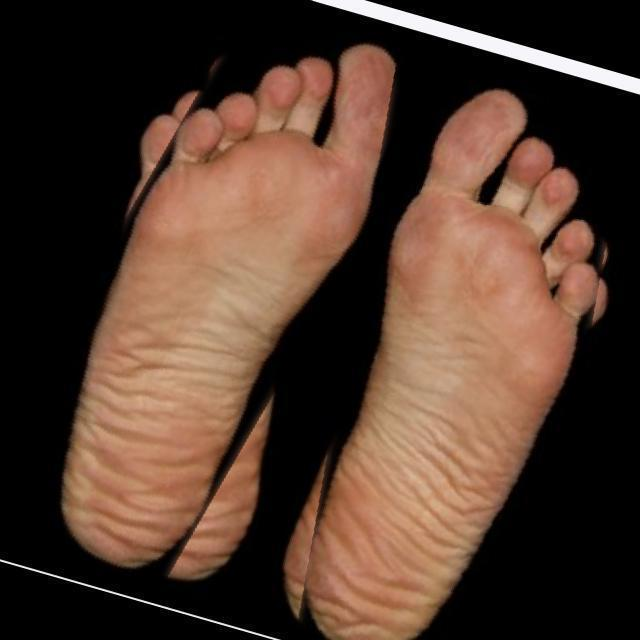No_Shoes: (390, 63, 620, 626), (111, 16, 327, 539)
